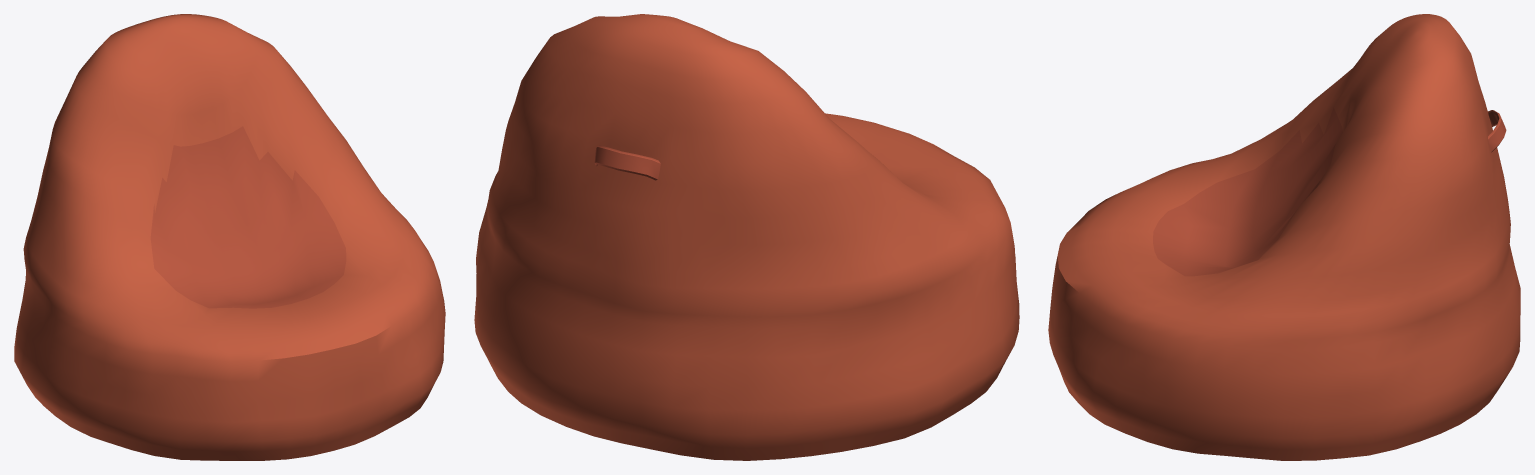
File: beanBag.glb
The picture shows the model from 3 angles, left to right: view 1: azimuth 30°, elevation 25°; view 2: azimuth 150°, elevation 25°; view 3: azimuth 270°, elevation 25°; orthographic projection. The views are drawn at different scales.
Parts seen in each view (by area): view 1: bag; view 2: bag; view 3: bag.
Part boxes in pixels (bbox=[...]): bag: bbox=[14, 14, 445, 460]; bag: bbox=[474, 14, 1019, 460]; bag: bbox=[1048, 14, 1520, 460].
Bounding box in the file's own units: 0.8437 × 0.6929 × 0.846.
